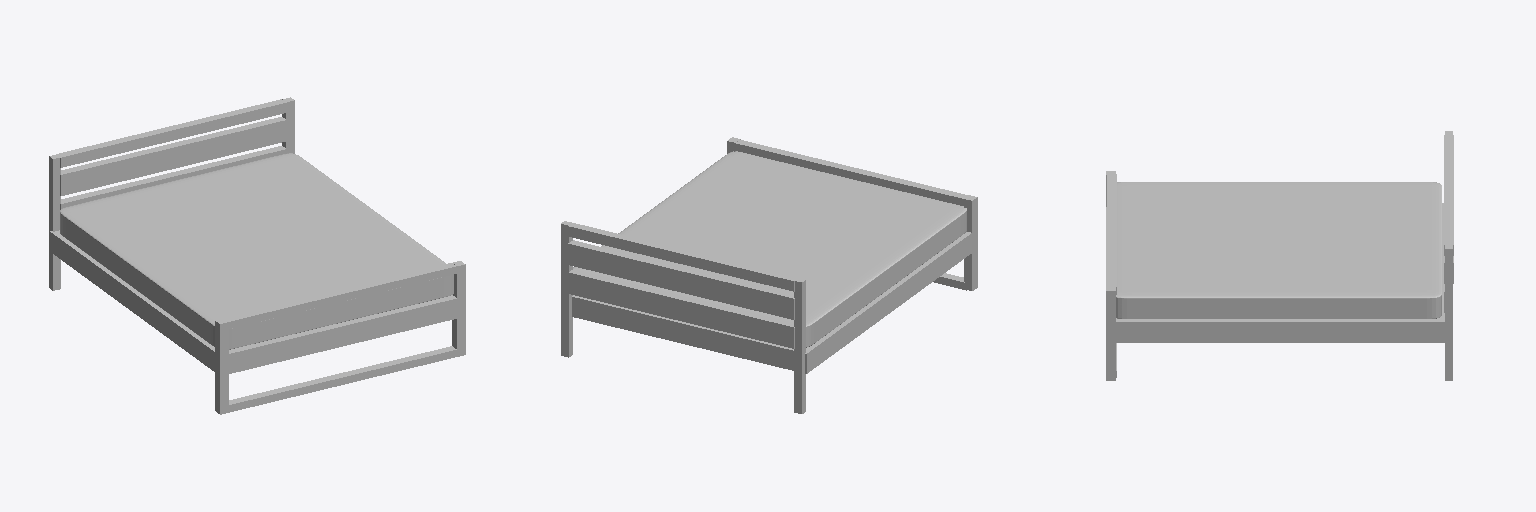
The model's file is ANDREA.obj.
The picture shows the model from 3 angles: view 1: azimuth 30°, elevation 25°; view 2: azimuth 150°, elevation 25°; view 3: azimuth 270°, elevation 25°; orthographic projection.
Visible parts, largest first — view 1: Cube.005_Cube.006, Cube.002_Cube.003, Cube.008_Cube.009, Cube.001_Cube.008, Cube.006_Cube.010, Cube.003_Cube.012, Cube.009_Cube.015, Cube.004_Cube.005, cube12_Cube.004, cube10_Cube.007; view 2: Cube.005_Cube.006, Cube.002_Cube.003, Cube.008_Cube.009, Cube.009_Cube.015, Cube.001_Cube.008, Cube.006_Cube.010, cube12_Cube.004, cube11_Cube.001, Cube.004_Cube.005; view 3: Cube.005_Cube.006, Cube.002_Cube.003, Cube.006_Cube.010, Cube.001_Cube.008, cube11_Cube.001, cube10_Cube.007.
Part boxes in pixels (left/top/right/bottom): Cube.005_Cube.006: left=60, top=153, right=453, bottom=349; Cube.002_Cube.003: left=50, top=230, right=456, bottom=373; Cube.008_Cube.009: left=60, top=117, right=286, bottom=195; Cube.001_Cube.008: left=58, top=99, right=286, bottom=167; Cube.006_Cube.010: left=223, top=263, right=456, bottom=328; Cube.003_Cube.012: left=229, top=346, right=456, bottom=412; Cube.009_Cube.015: left=60, top=146, right=286, bottom=209; Cube.004_Cube.005: left=215, top=319, right=228, bottom=414; cube12_Cube.004: left=49, top=154, right=60, bottom=290; cube10_Cube.007: left=452, top=261, right=465, bottom=356; Cube.005_Cube.006: left=573, top=151, right=966, bottom=347; Cube.002_Cube.003: left=572, top=232, right=971, bottom=373; Cube.008_Cube.009: left=568, top=240, right=794, bottom=319; Cube.009_Cube.015: left=568, top=269, right=794, bottom=348; Cube.001_Cube.008: left=568, top=223, right=797, bottom=291; Cube.006_Cube.010: left=734, top=140, right=968, bottom=206; cube12_Cube.004: left=794, top=278, right=805, bottom=413; cube11_Cube.001: left=561, top=221, right=572, bottom=357; Cube.004_Cube.005: left=964, top=195, right=977, bottom=290; Cube.005_Cube.006: left=1116, top=182, right=1441, bottom=318; Cube.002_Cube.003: left=1106, top=203, right=1446, bottom=342; Cube.006_Cube.010: left=1107, top=174, right=1116, bottom=294; Cube.001_Cube.008: left=1444, top=135, right=1453, bottom=255; cube11_Cube.001: left=1445, top=245, right=1452, bottom=380; cube10_Cube.007: left=1106, top=287, right=1115, bottom=380.
Bounding box in the file's own units: 3.4 × 1.75 × 4.18.